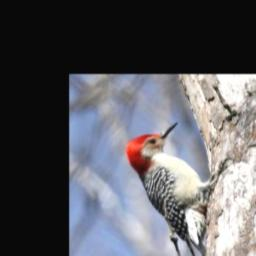Woodpecker: (121, 118, 240, 256)
